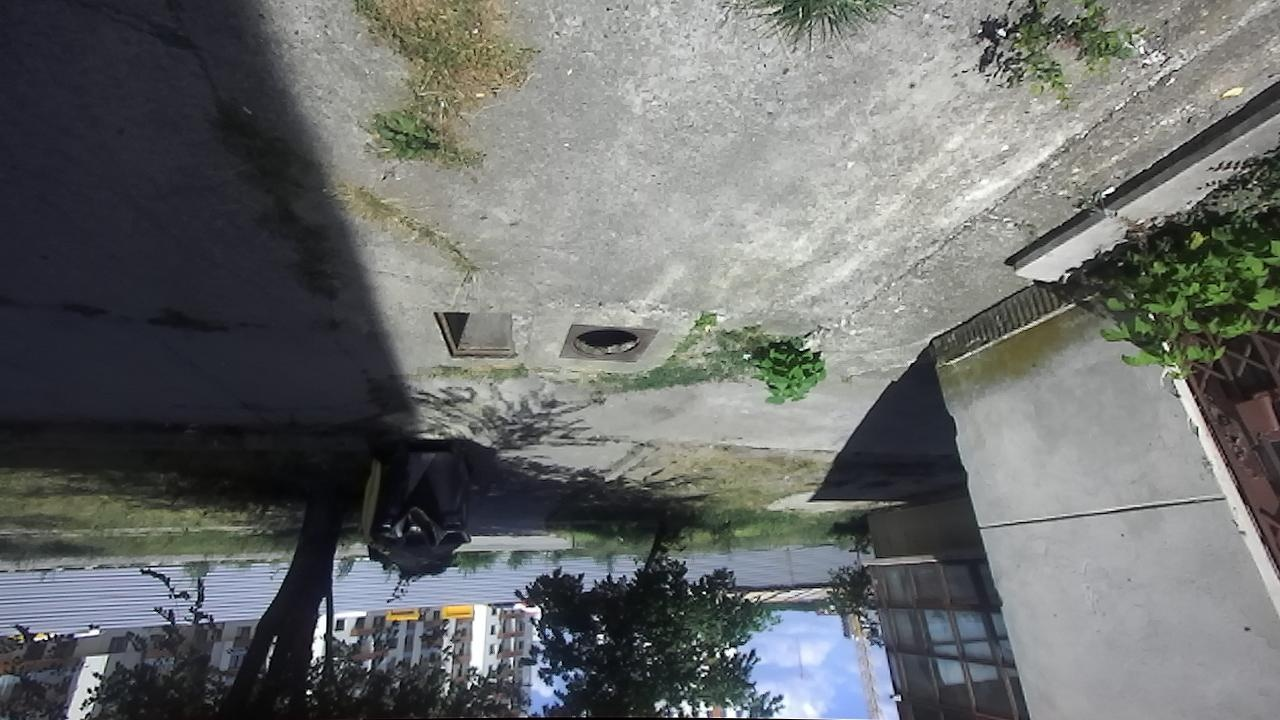drain: (431, 311, 520, 363), (567, 325, 644, 360)
